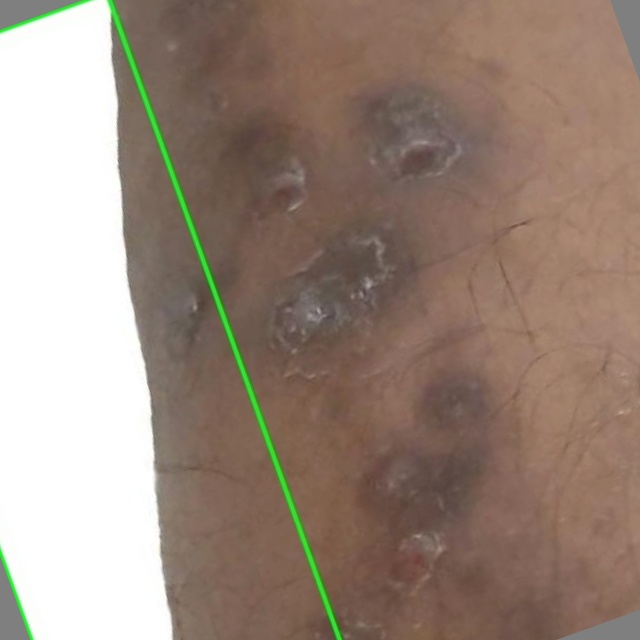Eczema: (0, 0, 339, 639)
